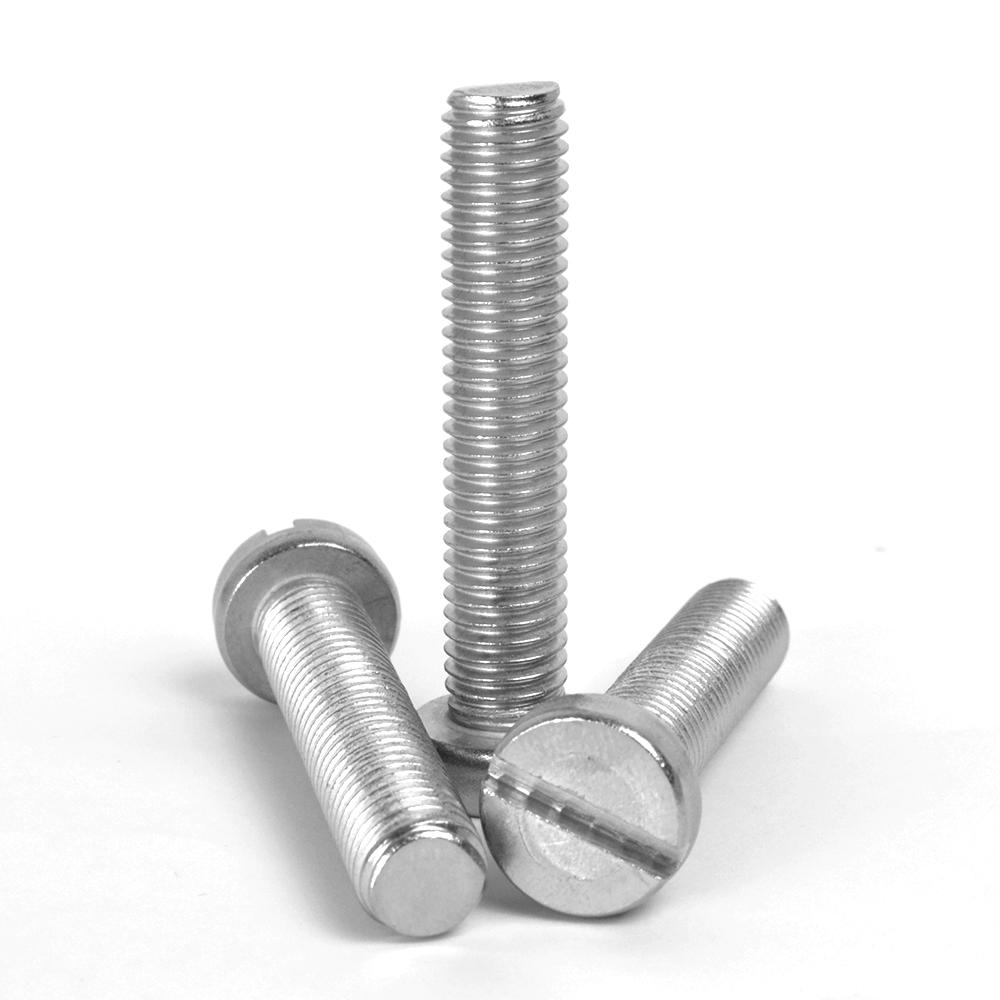slotted: (482, 694, 695, 931)
